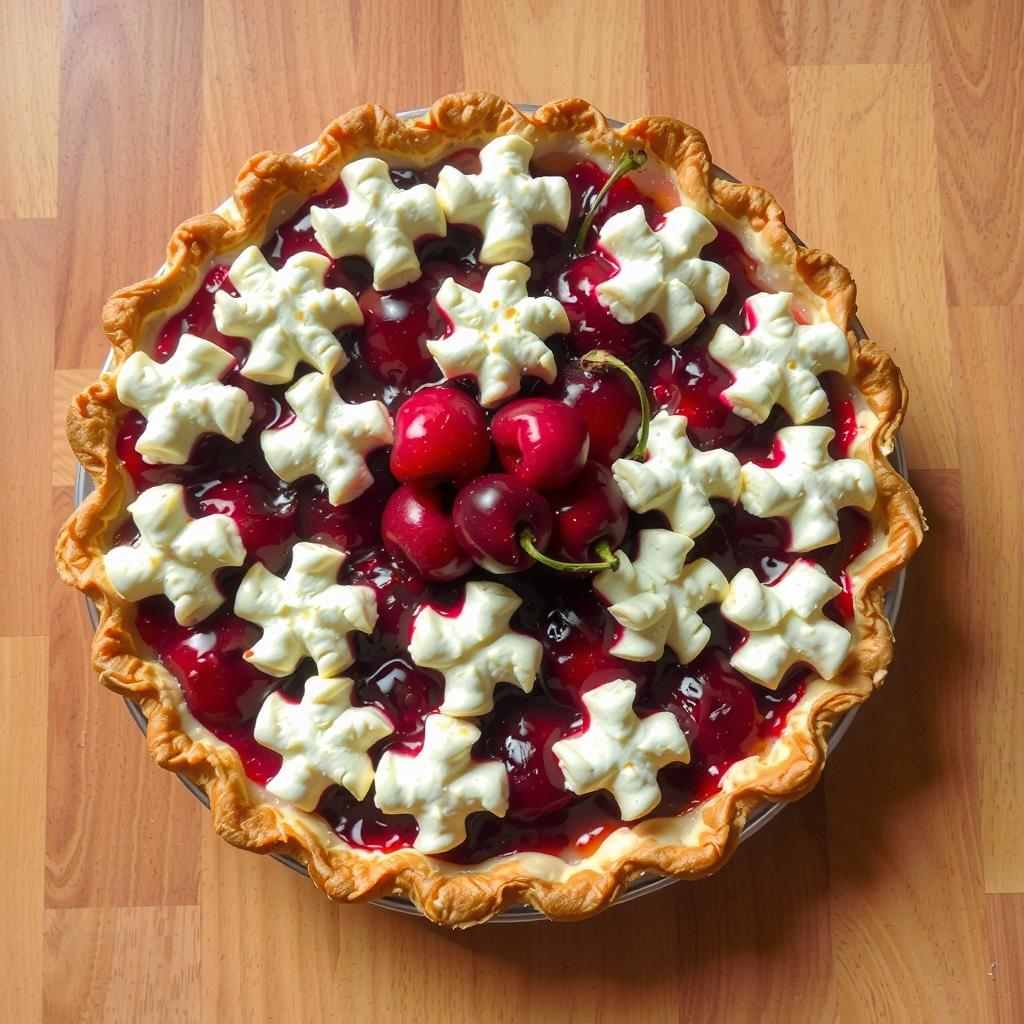pie: (53, 86, 933, 930)
